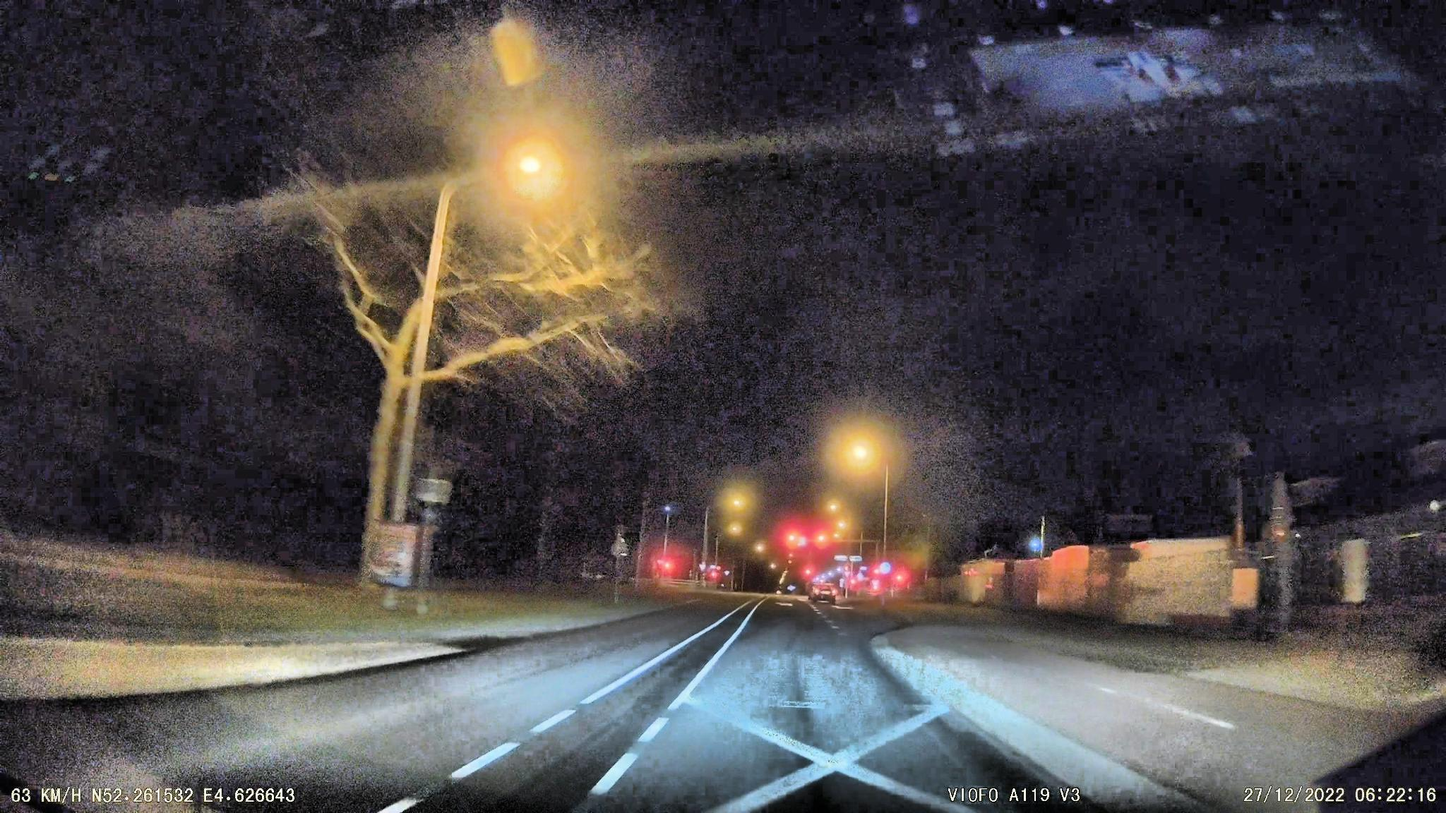Roads: (0, 601, 1117, 813)
